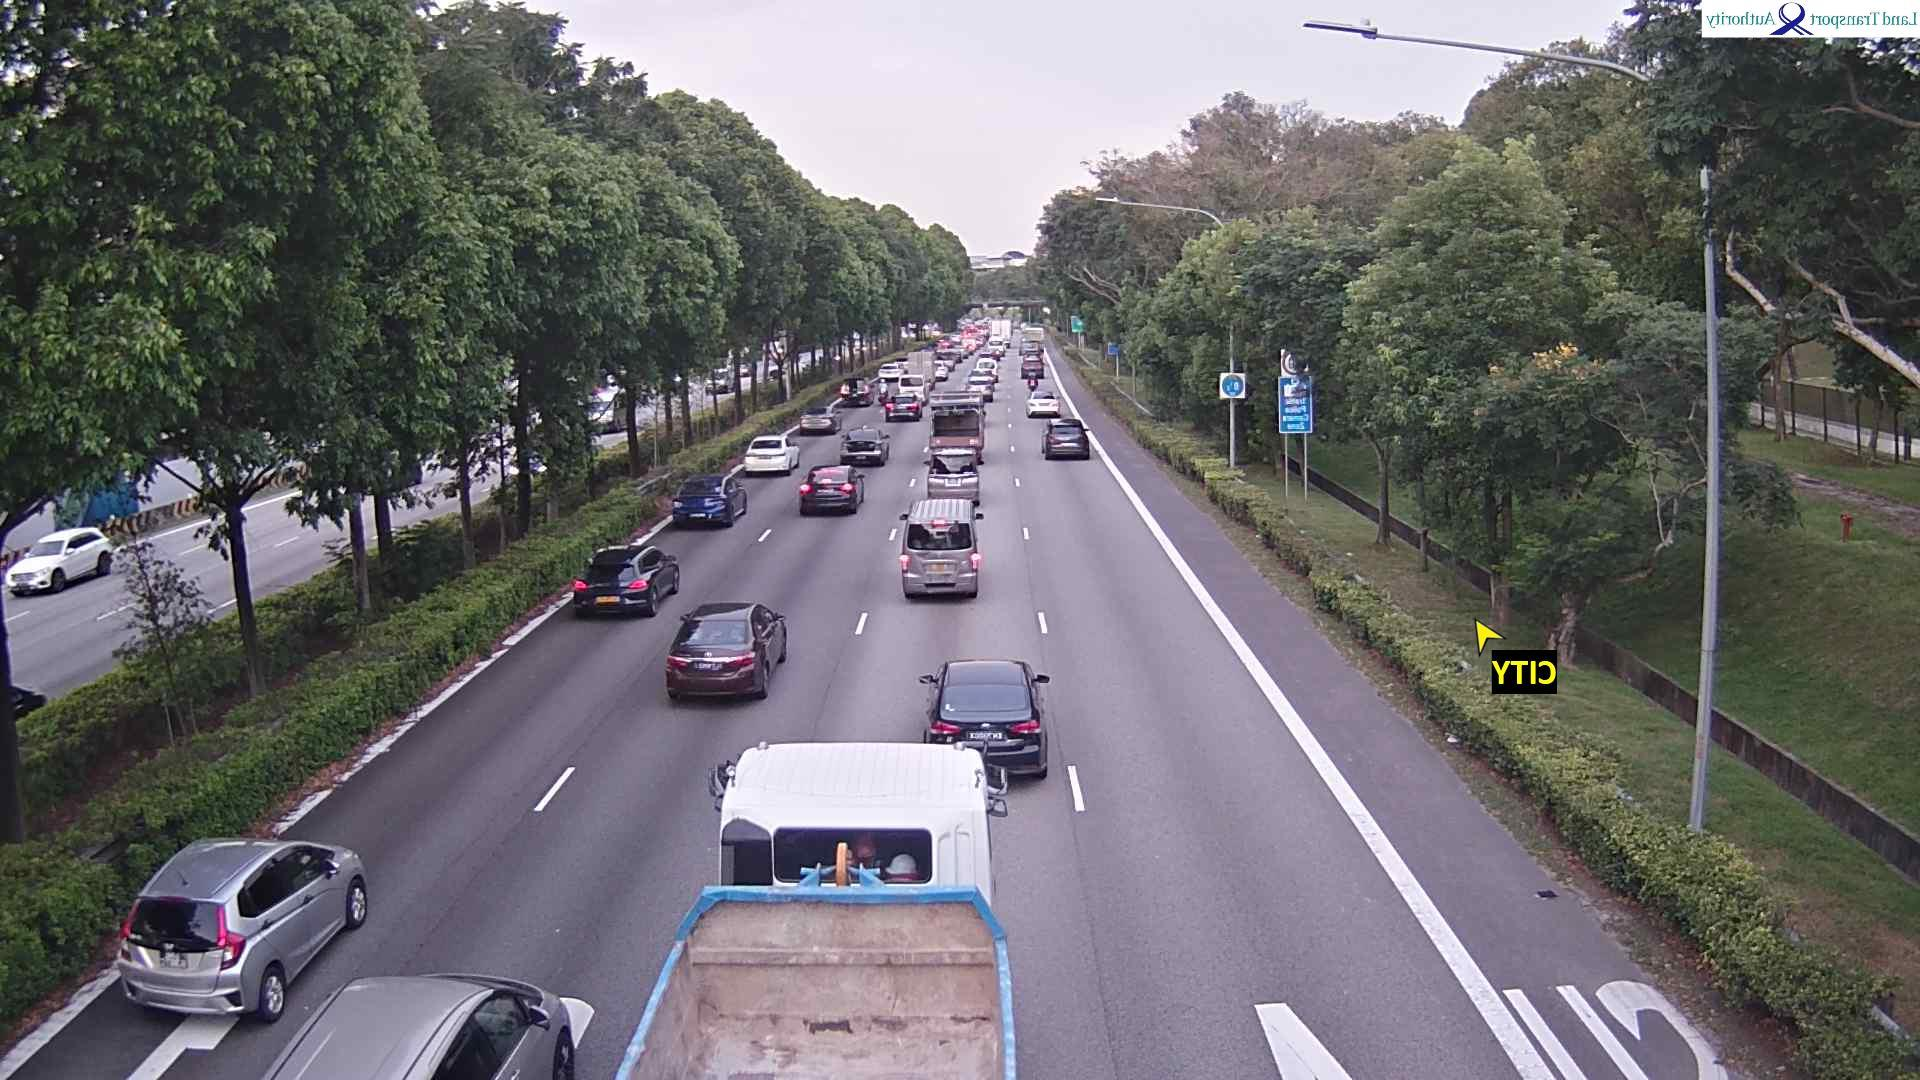incoming: (4, 532, 69, 596)
